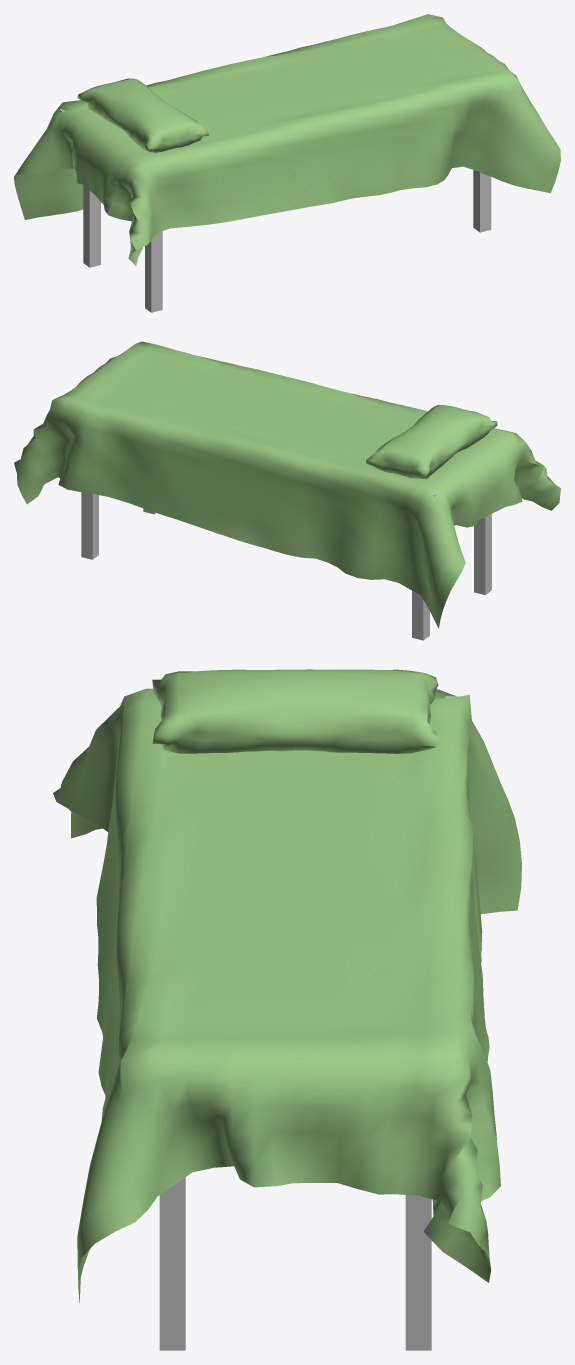
File: couch.fbx
The picture shows the model from 3 angles, top to bottom: view 1: azimuth 30°, elevation 25°; view 2: azimuth 150°, elevation 25°; view 3: azimuth 270°, elevation 25°; orthographic projection. The views are drawn at different scales.
Parts seen in each view (by area): view 1: Plane, Cube_2, Cube_1_2, Cube_1_0, Cube_1_1; view 2: Plane, Cube_2, Cube_1_0, Cube_1_3, Cube_1_2; view 3: Plane, Cube_2, Cube_1_1, Cube_1_3.
Part boxes in pixels (left/top/right/bottom): Plane: left=14, top=14, right=560, bottom=265; Cube_2: left=77, top=78, right=208, bottom=152; Cube_1_2: left=83, top=185, right=100, bottom=267; Cube_1_0: left=145, top=231, right=162, bottom=312; Cube_1_1: left=473, top=170, right=491, bottom=232; Plane: left=14, top=341, right=560, bottom=628; Cube_2: left=366, top=404, right=497, bottom=478; Cube_1_0: left=474, top=513, right=491, bottom=594; Cube_1_3: left=81, top=492, right=98, bottom=559; Cube_1_2: left=412, top=590, right=429, bottom=640; Plane: left=53, top=688, right=521, bottom=1303; Cube_2: left=152, top=669, right=439, bottom=753; Cube_1_1: left=159, top=1177, right=185, bottom=1350; Cube_1_3: left=405, top=1195, right=431, bottom=1350.
Size of the model in its own units: 240 by 93.28 by 108.
